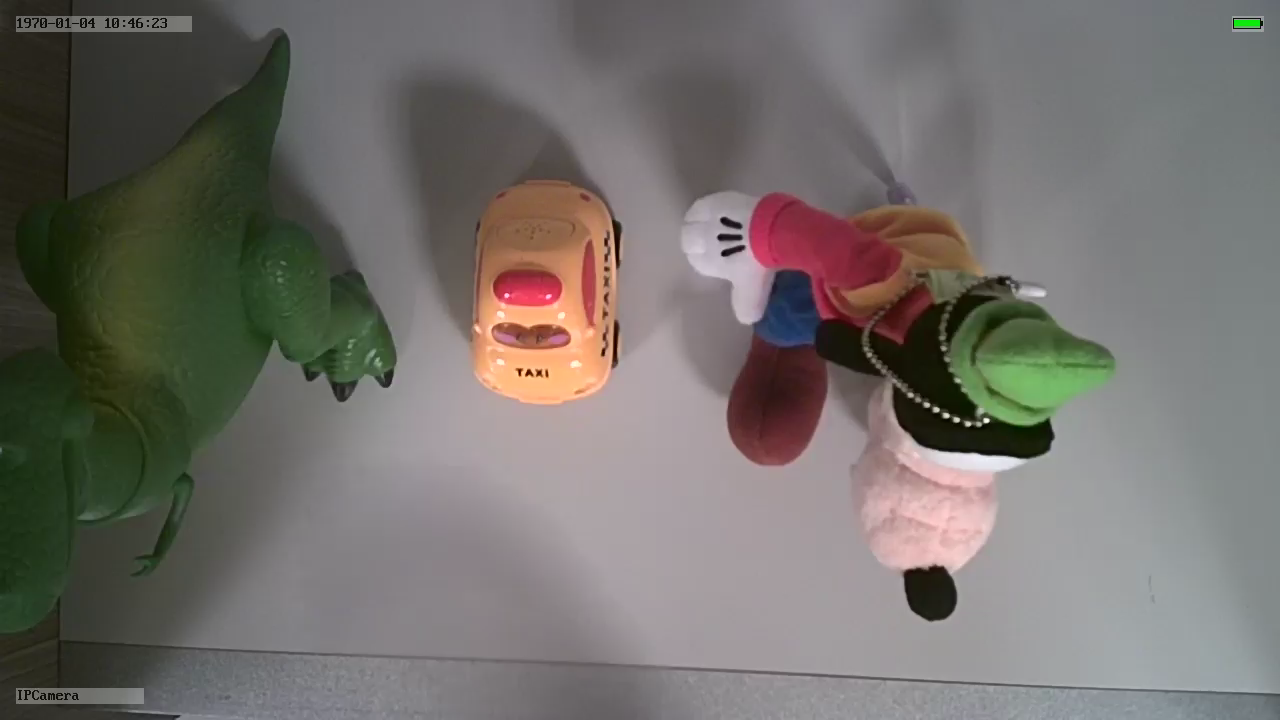goofy: (671, 185, 1119, 623)
